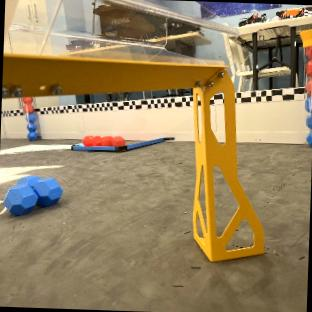V5_BLUE: (4, 176, 62, 215)
V5_RED: (82, 136, 125, 147)
